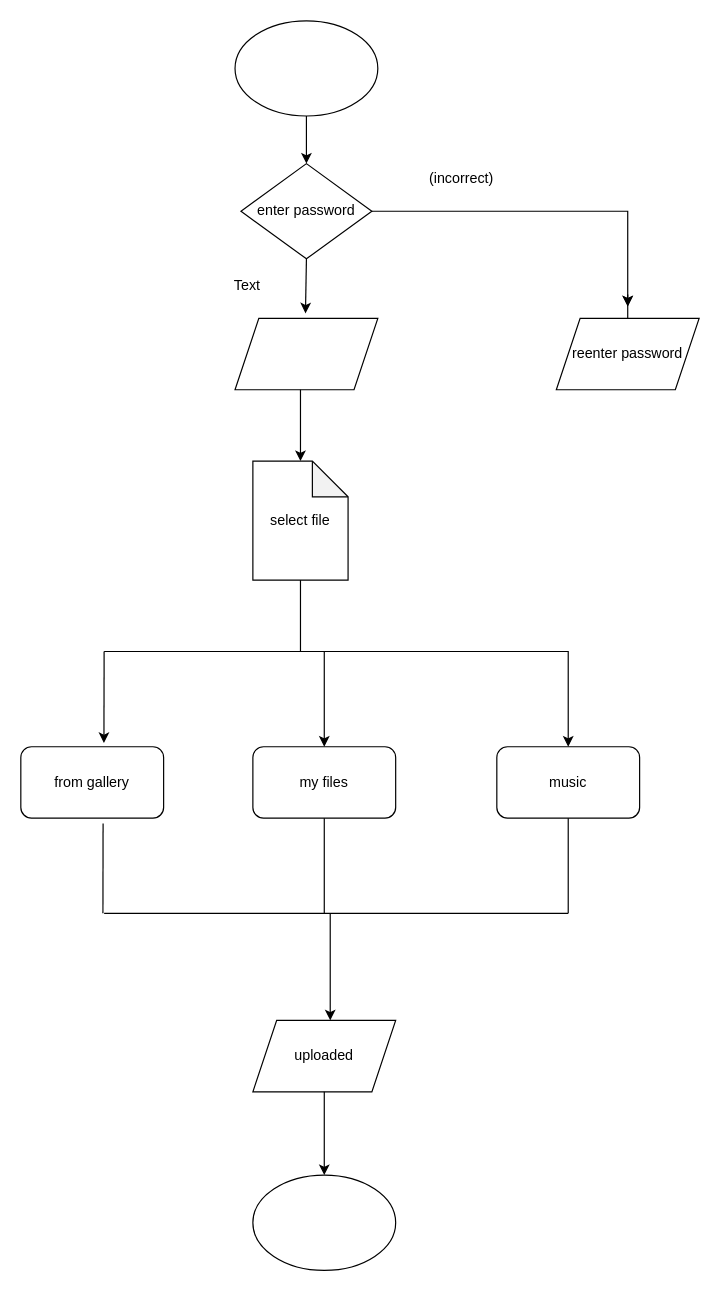
This 720x1291 diagram has some shape labels left out. The centre of each missing label's shape, as x and y in pixels:
"login" belongs at (x=306, y=68).
"stop" belongs at (x=324, y=1222).
"upload file" belongs at (x=306, y=353).
